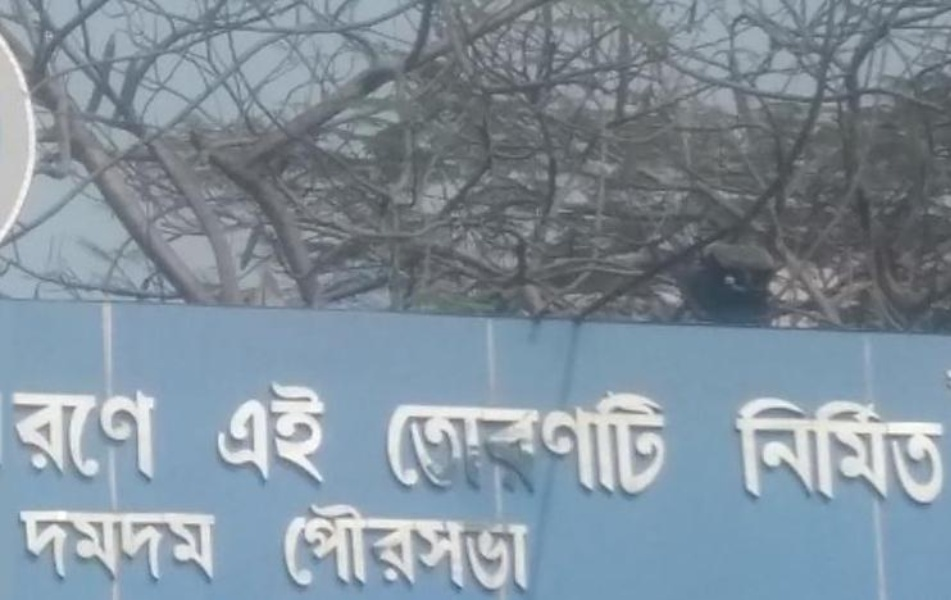text: (385, 381, 400, 506), (401, 381, 416, 506), (417, 381, 432, 506), (433, 381, 448, 506), (449, 381, 464, 506), (465, 381, 480, 506), (481, 381, 496, 506), (497, 381, 512, 506), (513, 381, 528, 506), (529, 381, 544, 506), (545, 381, 560, 506), (561, 381, 576, 506), (577, 381, 592, 506), (593, 381, 608, 506), (609, 381, 624, 506), (625, 381, 640, 506), (641, 381, 656, 506), (737, 395, 752, 508), (753, 395, 768, 508), (769, 395, 784, 508), (785, 395, 800, 508), (801, 395, 816, 508), (817, 395, 832, 508), (833, 395, 848, 508), (849, 395, 864, 508), (865, 395, 880, 508), (881, 395, 896, 508), (897, 395, 912, 508), (913, 395, 928, 508), (929, 395, 944, 508), (225, 377, 240, 489), (241, 377, 256, 489), (257, 377, 272, 489), (273, 377, 288, 489), (289, 377, 304, 489), (305, 377, 320, 489), (513, 502, 529, 594), (17, 388, 32, 483), (33, 388, 48, 483), (49, 388, 64, 483), (65, 388, 80, 483), (81, 388, 96, 483), (97, 388, 112, 483), (113, 388, 128, 483), (129, 388, 144, 483), (289, 502, 304, 594), (305, 502, 320, 594), (321, 502, 336, 594), (337, 502, 352, 594), (353, 502, 368, 594), (369, 502, 384, 594), (385, 502, 400, 594), (401, 502, 416, 594), (417, 502, 432, 594), (433, 502, 448, 594), (449, 502, 464, 594), (465, 502, 480, 594), (481, 502, 496, 594), (497, 502, 512, 594), (657, 381, 668, 506), (33, 507, 48, 586), (49, 507, 64, 586), (65, 507, 80, 586), (81, 507, 96, 586), (97, 507, 112, 586), (113, 507, 128, 586), (129, 507, 144, 586), (145, 507, 160, 586), (161, 507, 176, 586), (177, 507, 192, 586), (193, 507, 208, 586), (145, 388, 157, 483), (20, 507, 32, 586), (209, 507, 221, 586), (217, 377, 224, 489), (321, 377, 327, 489), (12, 388, 16, 483), (284, 502, 288, 594), (734, 395, 736, 508)
